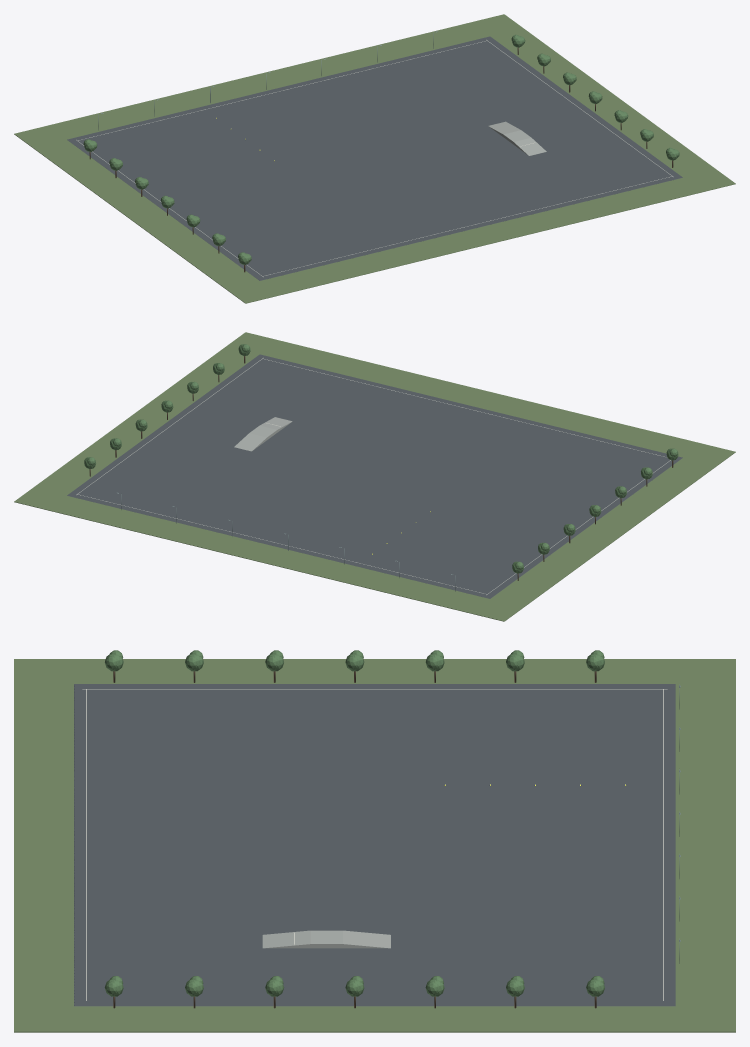
Rendered from DS_Autodrome.fbx.
The picture shows the model from 3 angles, top to bottom: view 1: azimuth 30°, elevation 25°; view 2: azimuth 150°, elevation 25°; view 3: azimuth 270°, elevation 25°; orthographic projection. The views are drawn at different scales.
Visible parts, largest first — view 1: Asphalt, Ground, HillRamp; view 2: Asphalt, Ground, HillRamp; view 3: Asphalt, Ground, HillRamp.
Part boxes in pixels (x1=…): Asphalt: x1=67, y1=36, x2=682, y2=280; Ground: x1=14, y1=14, x2=735, y2=303; HillRamp: x1=488, y1=121, x2=546, y2=155; Asphalt: x1=67, y1=354, x2=682, y2=598; Ground: x1=14, y1=332, x2=735, y2=621; HillRamp: x1=234, y1=417, x2=292, y2=451; Asphalt: x1=74, y1=684, x2=675, y2=1006; Ground: x1=14, y1=659, x2=735, y2=1032; HillRamp: x1=262, y1=930, x2=390, y2=948.
Bounding box in the file's own units: 22000 × 18000 × 862.
